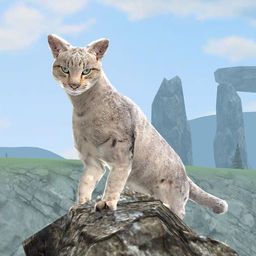cat: (46, 30, 225, 232)
